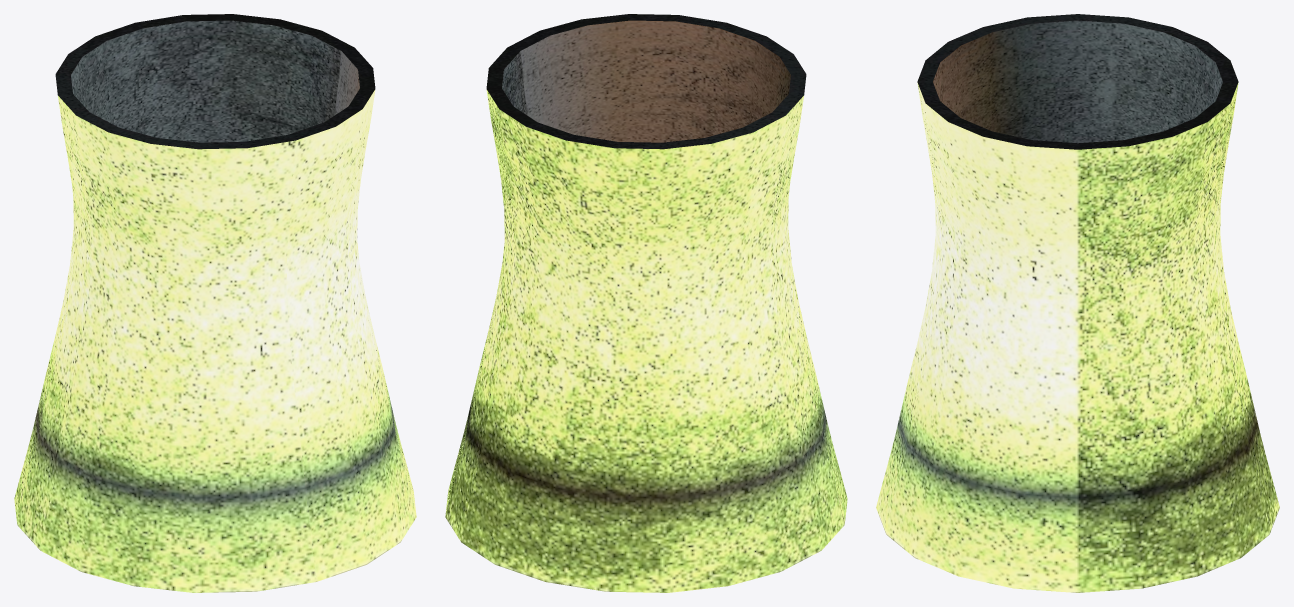
File: power_plant.fbx
3 renders of one model, left to right at view 1: azimuth 30°, elevation 25°; view 2: azimuth 150°, elevation 25°; view 3: azimuth 270°, elevation 25°, orthographic.
Parts seen in each view (by area): view 1: Loft, Loft_1; view 2: Loft, Loft_1; view 3: Loft, Loft_1.
Part boxes in pixels (x1,y1,x2,y2): Loft: (14, 14, 416, 592); Loft_1: (71, 20, 359, 142); Loft: (445, 14, 847, 592); Loft_1: (502, 20, 790, 142); Loft: (876, 14, 1279, 592); Loft_1: (933, 20, 1222, 143).
Bounding box in the file's own units: 280 × 326 × 280.
